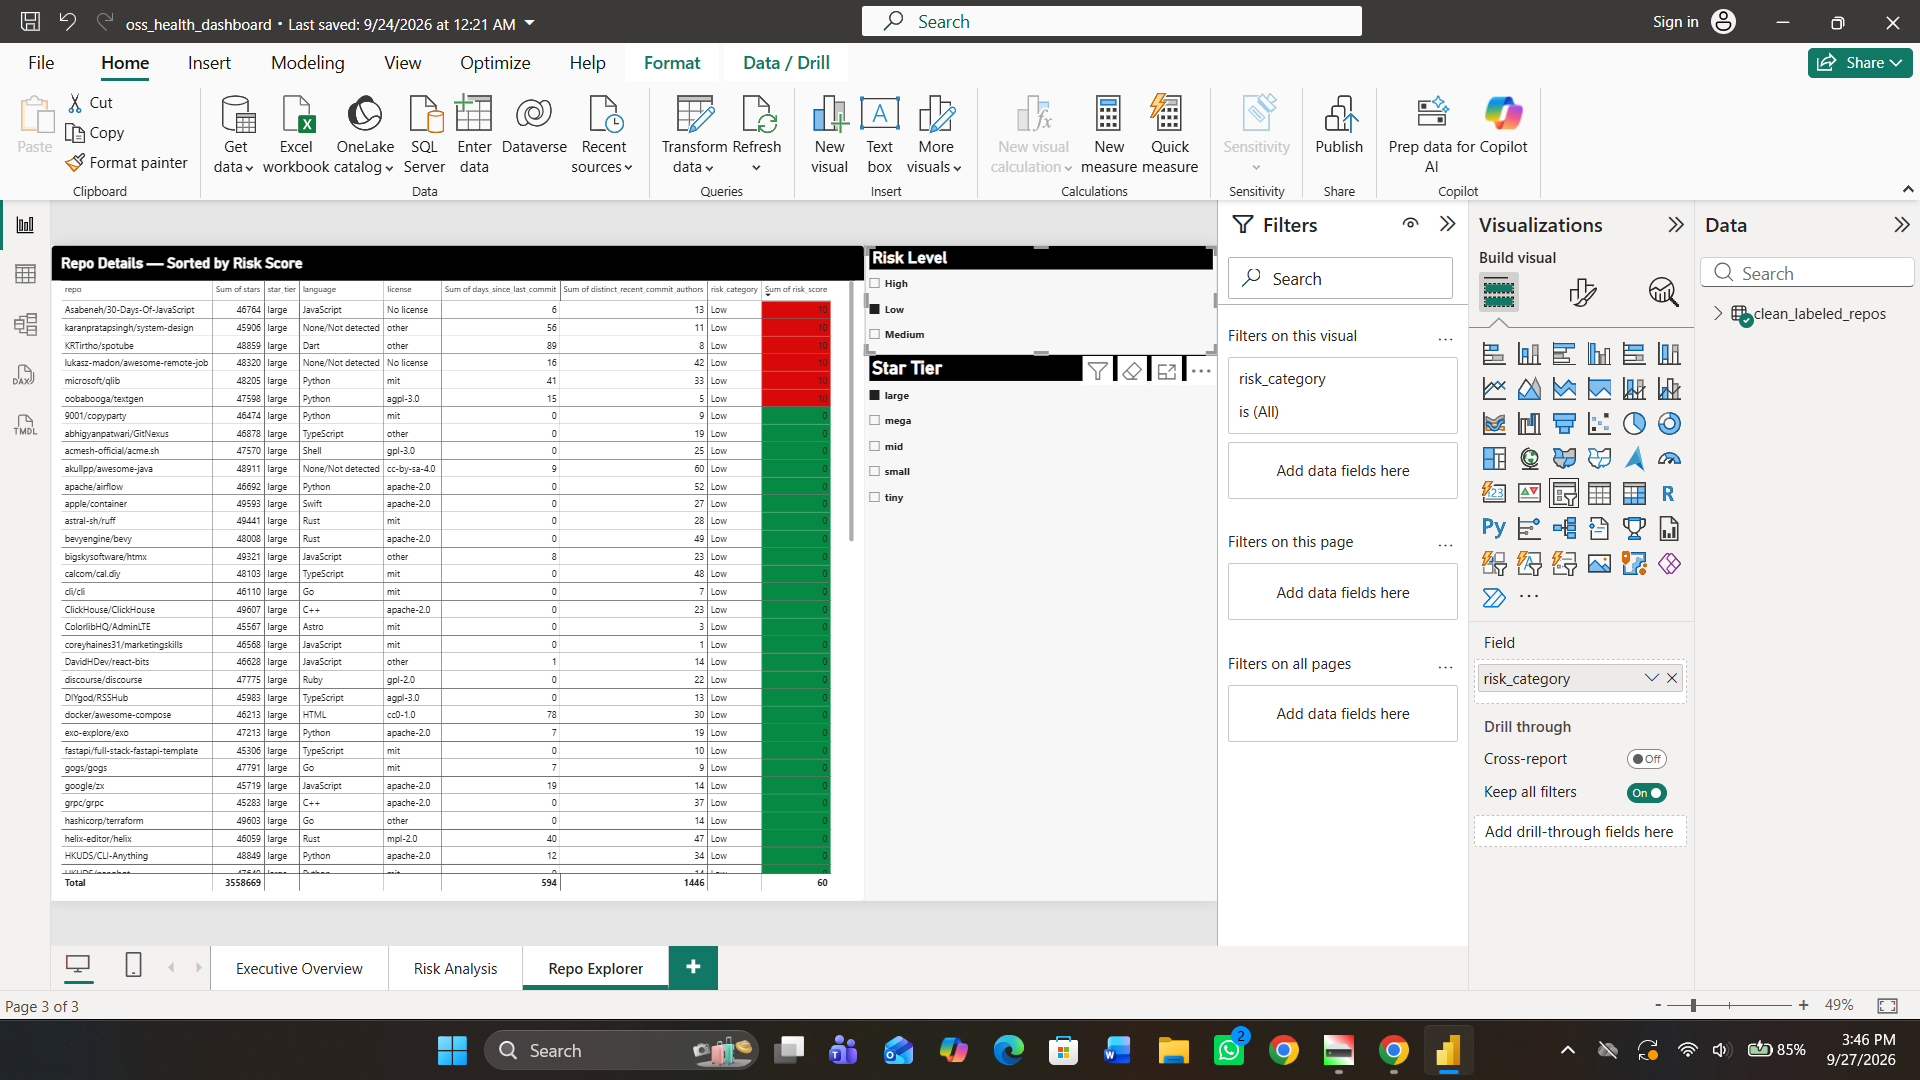

Layout of this report page (visuals, bound fields, positions):
{"tool":"powerbi","page":{"name":"Repo Explorer","canvas":[1920,1080],"ordinal":2},"visuals":[{"type":"tableEx","title":"Repo Details — Sorted by Risk Score","fields":{"Values":["clean_labeled_repos.repo","Sum(clean_labeled_repos.stars)","clean_labeled_repos.star_tier","clean_labeled_repos.language","clean_labeled_repos.license","Sum(clean_labeled_repos.days_since_last_commit)","Sum(clean_labeled_repos.distinct_recent_commit_authors)","clean_labeled_repos.risk_category","Sum(clean_labeled_repos.risk_score)"]},"box":[0,0,1340,1080.6],"z":0},{"type":"slicer","fields":{"Values":["clean_labeled_repos.risk_category"]},"box":[1340,0,580.4,181.1],"z":1},{"type":"slicer","fields":{"Values":["clean_labeled_repos.star_tier"]},"box":[1340,181.1,580.4,269.6],"z":2}]}

Visuals, with their boxes on the page's 1920x1080 design canvas (x1, y1, x2, y2). These are canvas units, not pixel positions in the 1920x1080 screenshot, which may show the page scaled, cropped or inside an application window:
"Repo Details — Sorted by Risk Score" tableEx: box=[0, 0, 1340, 1081]
slicer - clean_labeled_repos.risk_category: box=[1340, 0, 1920, 181]
slicer - clean_labeled_repos.star_tier: box=[1340, 181, 1920, 451]
